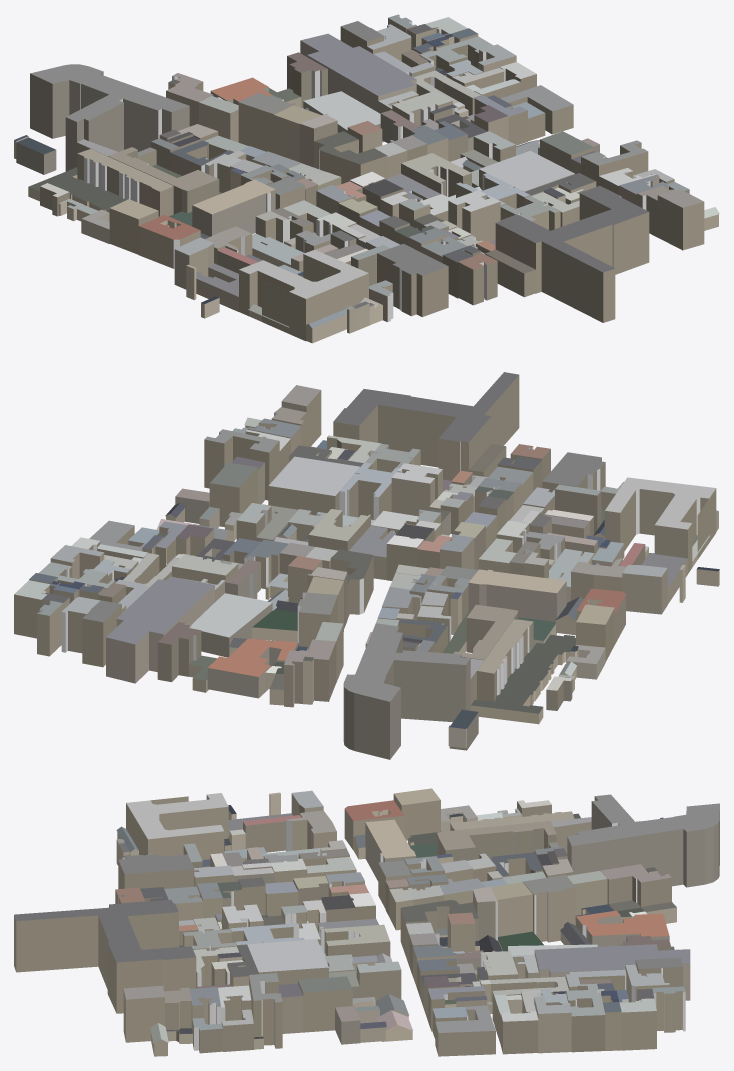
The picture shows the model from 3 angles, top to bottom: view 1: azimuth 30°, elevation 25°; view 2: azimuth 150°, elevation 25°; view 3: azimuth 270°, elevation 25°; orthographic projection. The views are drawn at different scales.
Parts seen in each view (by area): view 1: tuile; view 2: tuile; view 3: tuile.
Boxes of the visible parts, box(x1,y1,x2,y2) form: tuile: box(14, 14, 719, 343); tuile: box(14, 372, 719, 759); tuile: box(14, 788, 719, 1056).
Size of the model in its own units: 258 by 29.34 by 321.
